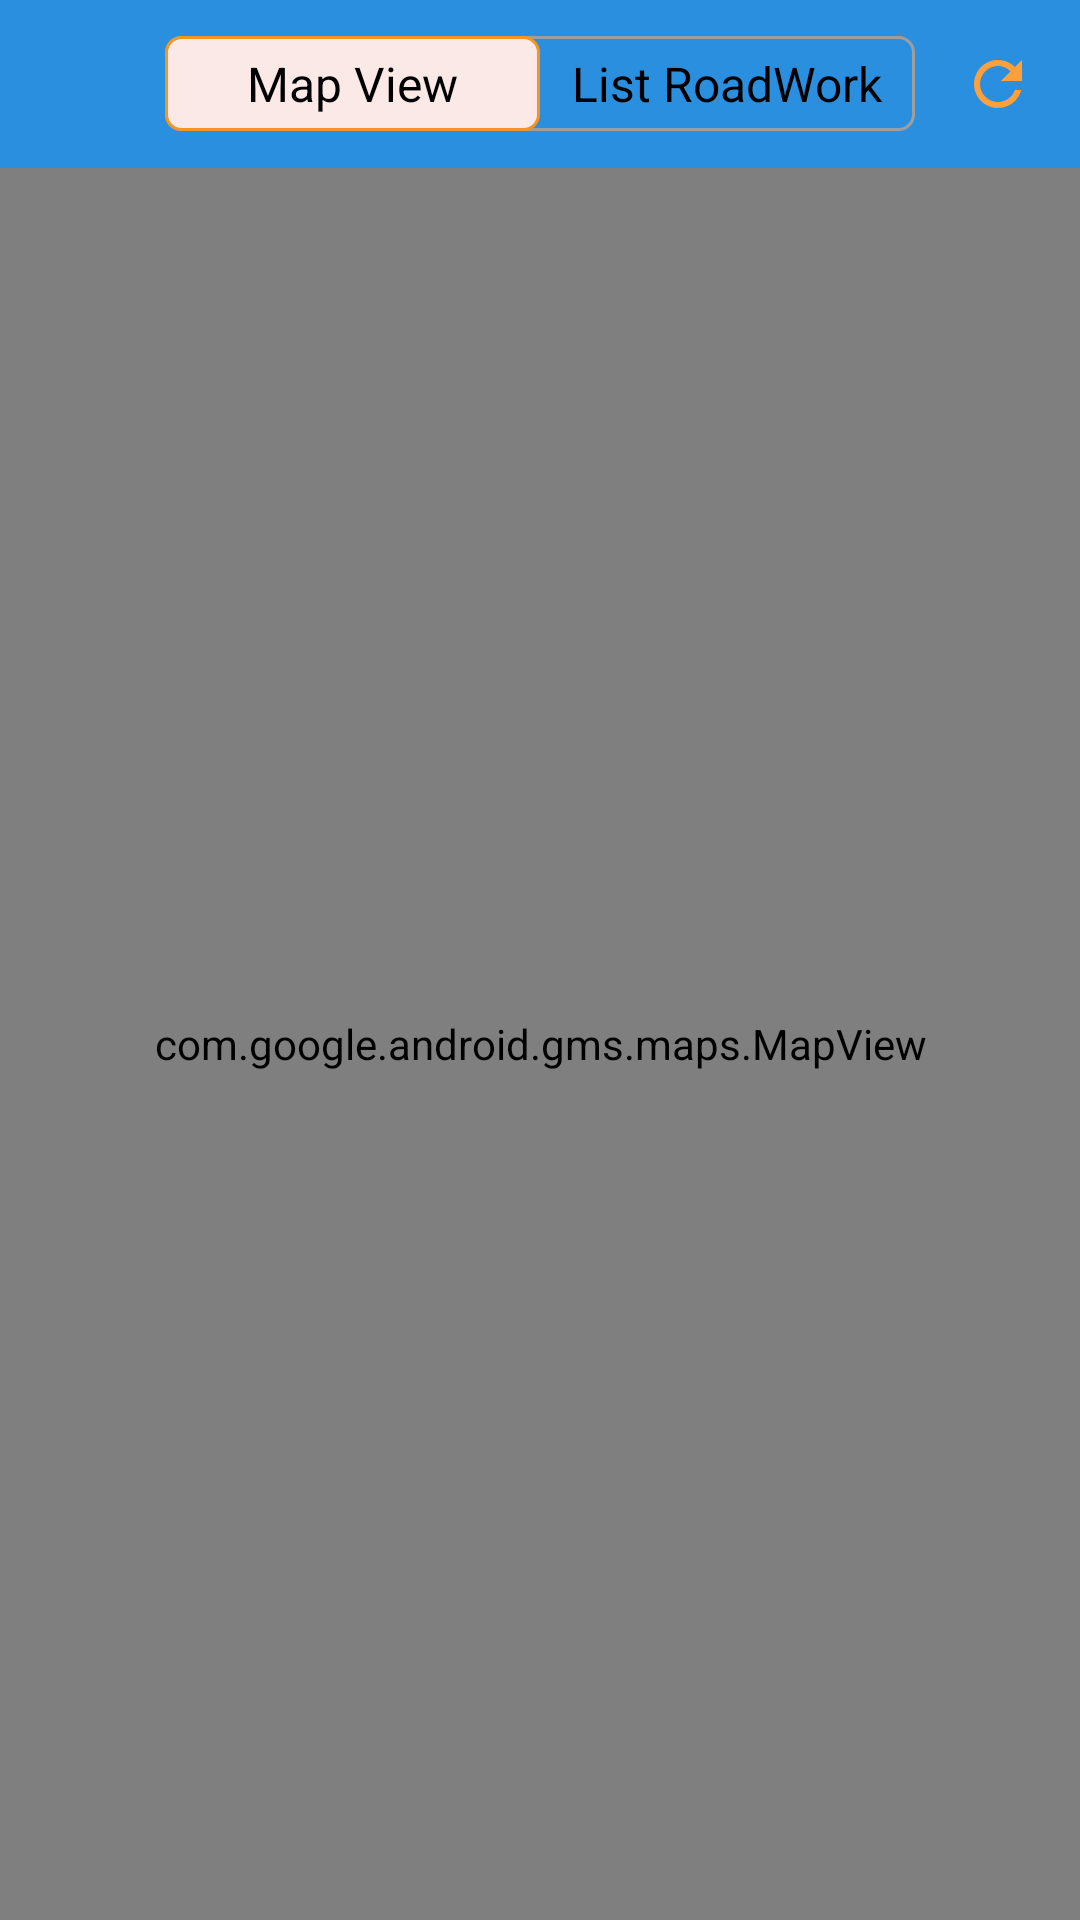

Screen size 1080×1920. Icon name, then its center in pixels as (x,y):
refresh data: (998,84)
